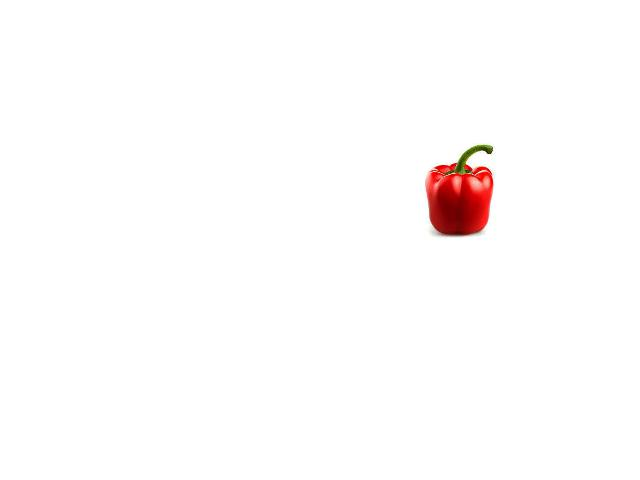bell_pepper: (427, 143, 495, 235)
